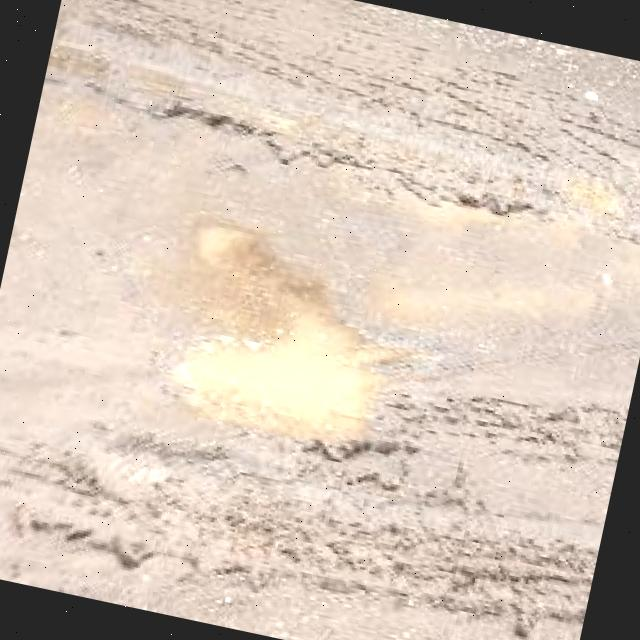stagnation: (129, 190, 448, 480)
